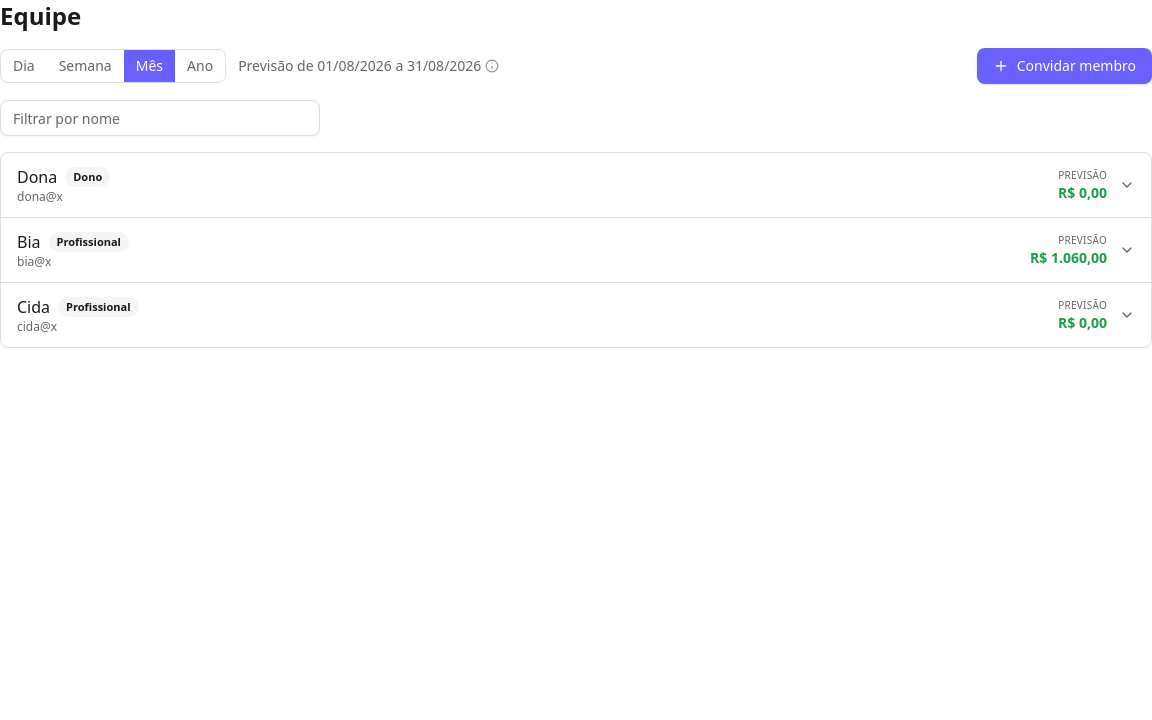
Test: Equipe (Story 5.9) › convidar abre dialog e gera o link (POST /users/invite)
Check: the text "Bia" is shown, box [17,230,40,254]
Click the button "Convidar membro" at (1064, 66), box [977,48,1151,84]
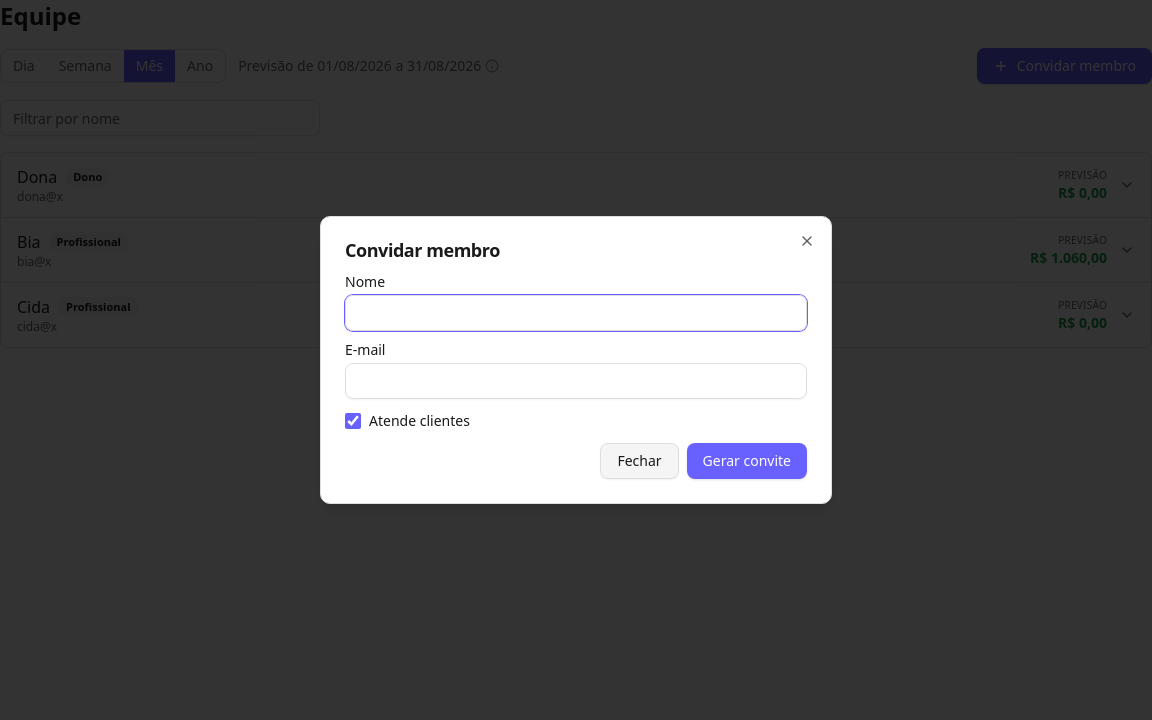
Type "Novo" into the field labelled "Nome" at (576, 313), box [345,295,807,331]
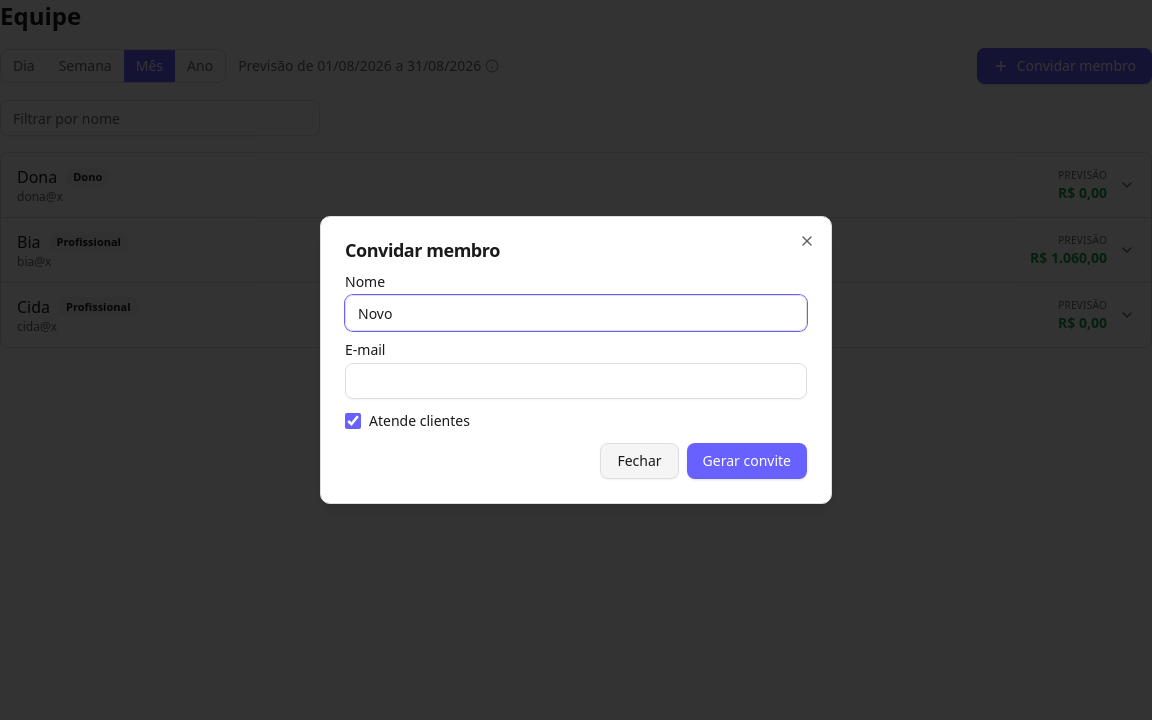
Type "novo@x.com" into the field labelled "E-mail" at (576, 381), box [345,363,807,399]
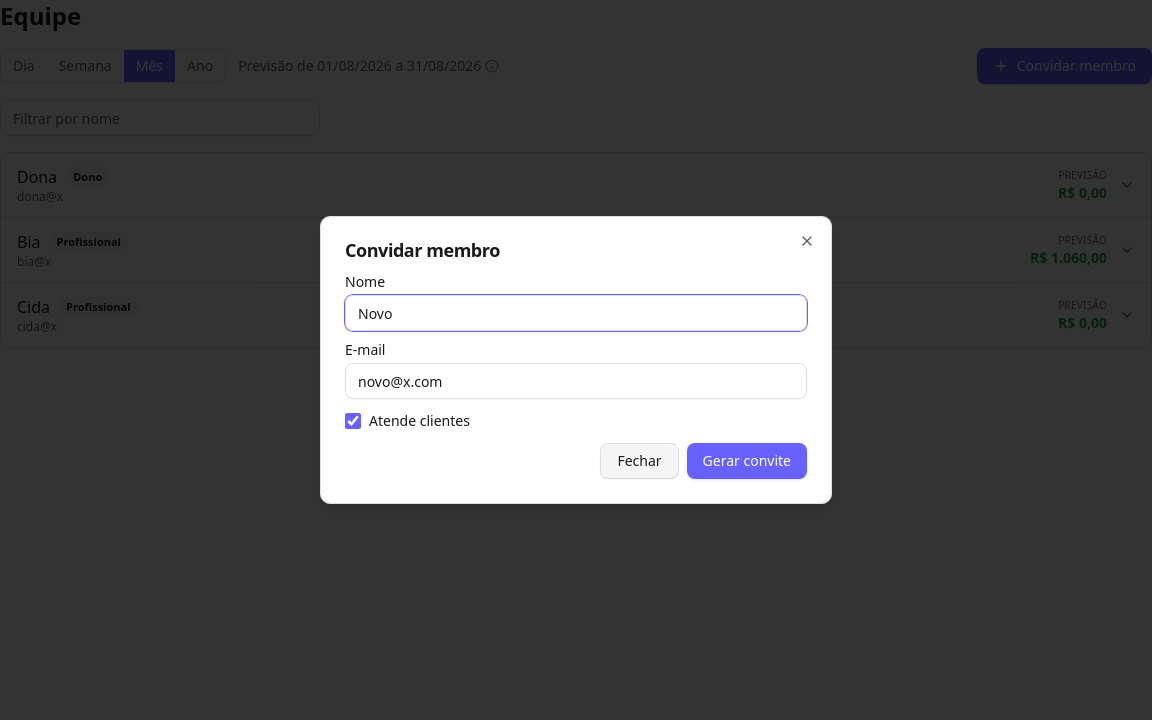
Click the button "Gerar convite" at (747, 461), box [687,443,807,479]
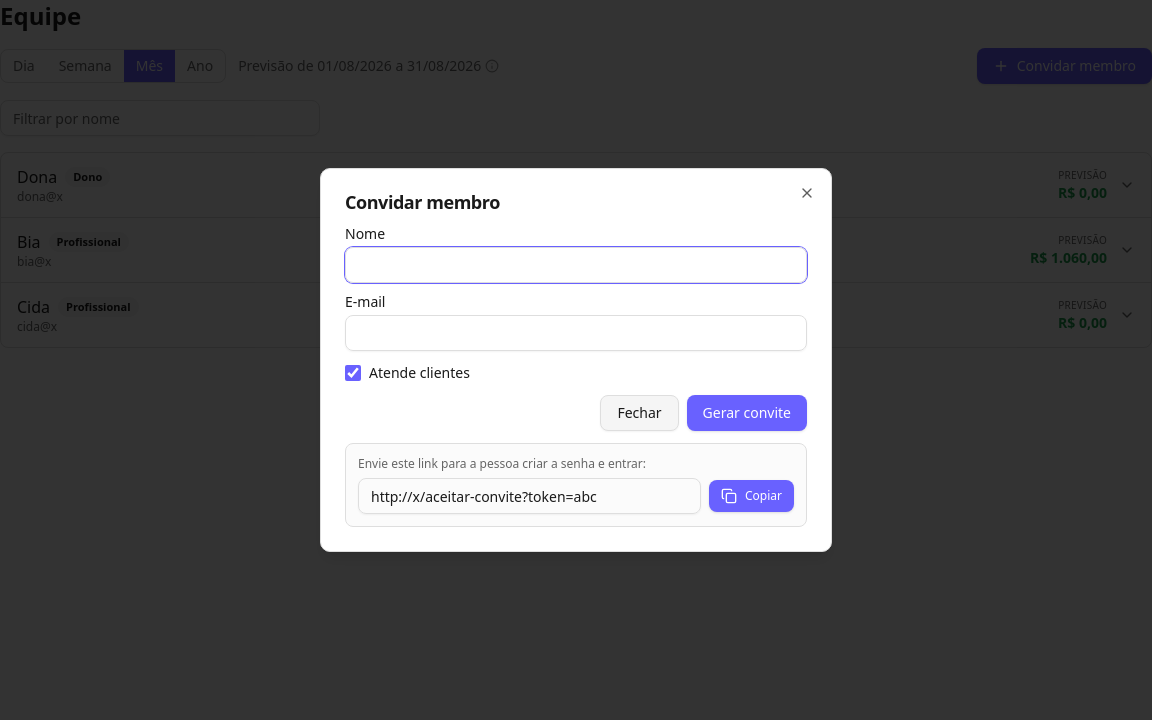
Check: the field showing "http://x/aceitar-convite?token=abc" is shown, box [358,478,701,514]
